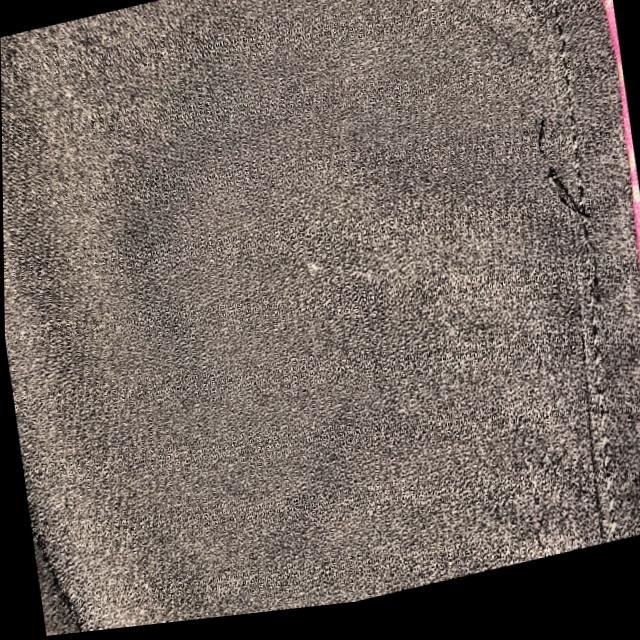Stitch: (512, 107, 599, 294)
